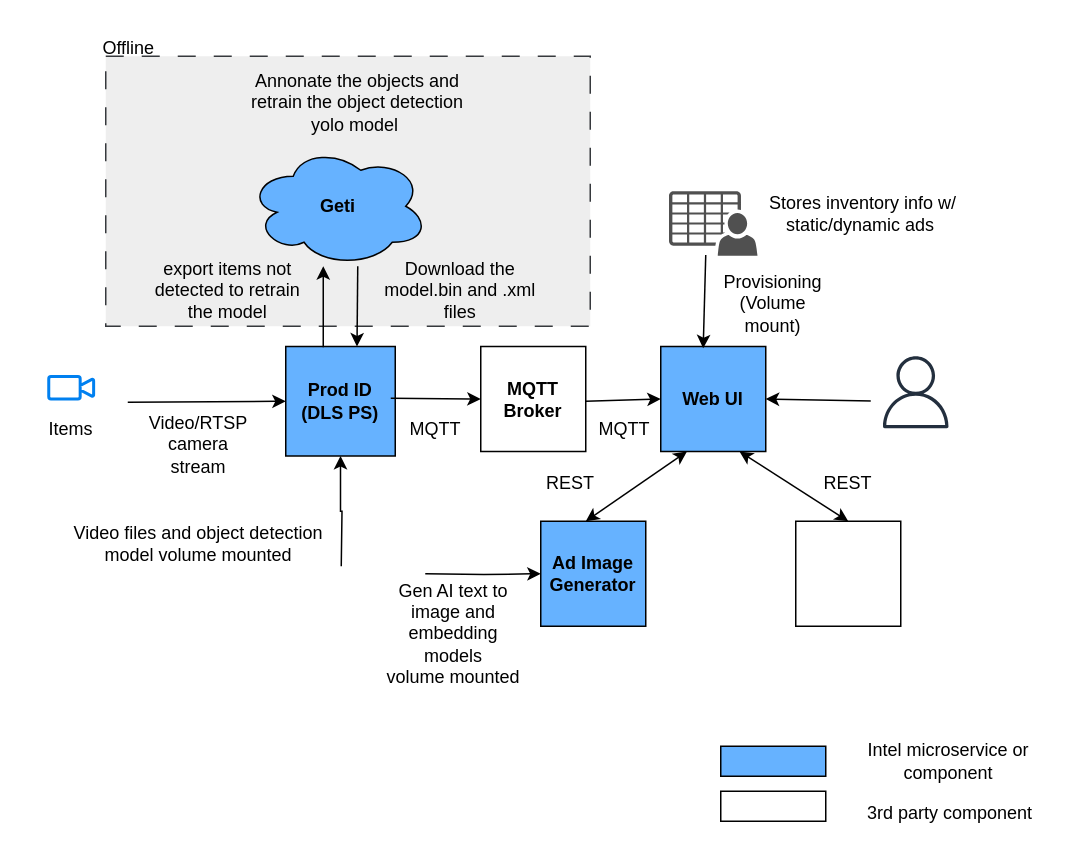
Some shapes in this 1065 by 861 pixel diagram are drawn without their labels. The shapes that lost their labels are listed below. From the top down, each one's centre as x and y in pixels, then its label:
At (x=915, y=391): "User".
At (x=847, y=573): "Ad Search Engine (Vector db - chromadb)".
